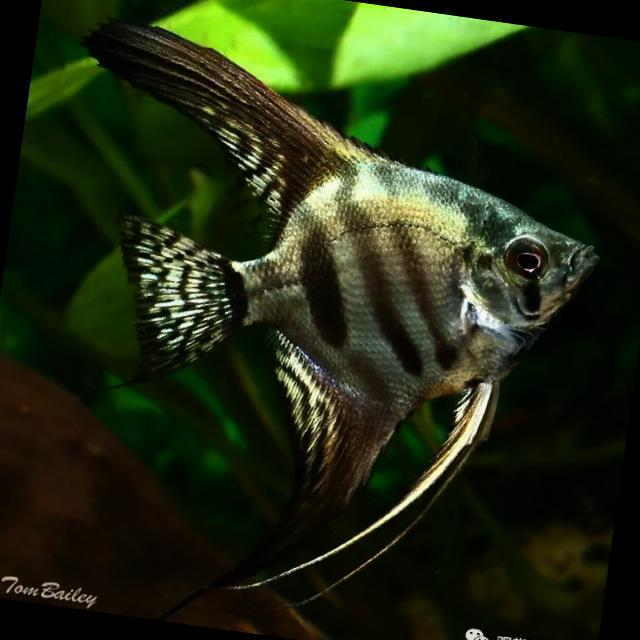AngelFish: (5, 9, 623, 640)
